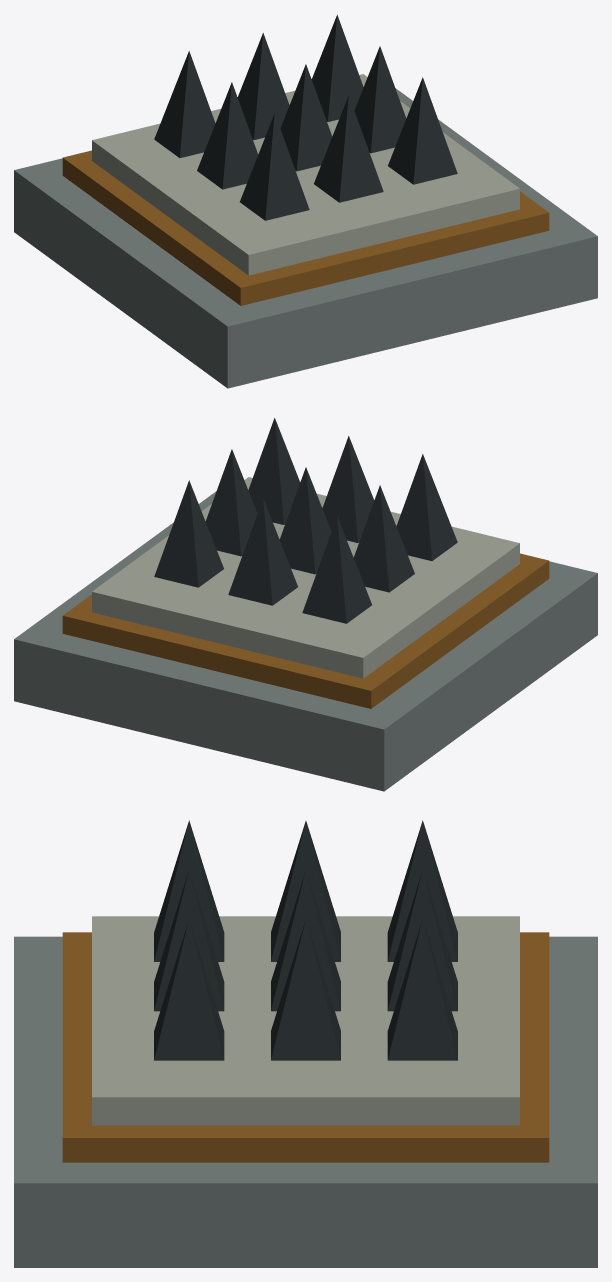
Rendered from MOV_TRAP_SPIKES_02.obj.
3 views of the same model, one above another, from view 1: azimuth 30°, elevation 25°; view 2: azimuth 150°, elevation 25°; view 3: azimuth 270°, elevation 25° (orthographic). The views are drawn at different scales.
Parts seen in each view (by area): view 1: Part_0, Part_2, Part_1, Part_11, Part_5, Part_8, Part_9, Part_10, Part_4, Part_7, Part_3, Part_6; view 2: Part_0, Part_2, Part_1, Part_9, Part_3, Part_6, Part_10, Part_11, Part_4, Part_7, Part_5, Part_8; view 3: Part_0, Part_2, Part_1, Part_3, Part_5, Part_4, Part_6, Part_8, Part_9, Part_11, Part_7, Part_10.
Part boxes in pixels (<box>): Part_0: <box>14,88,597,388</box>; Part_2: <box>92,74,519,275</box>; Part_1: <box>62,150,549,305</box>; Part_11: <box>240,113,309,220</box>; Part_5: <box>388,77,457,184</box>; Part_8: <box>314,95,383,202</box>; Part_9: <box>154,51,215,157</box>; Part_10: <box>197,82,258,189</box>; Part_4: <box>354,46,406,153</box>; Part_7: <box>280,64,332,171</box>; Part_3: <box>311,15,363,121</box>; Part_6: <box>237,33,289,139</box>; Part_0: <box>14,491,597,791</box>; Part_2: <box>92,477,519,678</box>; Part_1: <box>62,553,549,708</box>; Part_9: <box>302,516,371,623</box>; Part_3: <box>154,480,223,587</box>; Part_6: <box>228,498,297,605</box>; Part_10: <box>353,485,414,592</box>; Part_11: <box>396,454,457,560</box>; Part_4: <box>205,449,257,556</box>; Part_7: <box>279,467,331,574</box>; Part_5: <box>248,418,300,524</box>; Part_8: <box>322,436,374,542</box>; Part_0: <box>14,936,597,1267</box>; Part_2: <box>92,916,519,1125</box>; Part_1: <box>62,932,549,1162</box>; Part_3: <box>387,919,457,1060</box>; Part_5: <box>154,919,224,1060</box>; Part_4: <box>271,919,340,1060</box>; Part_6: <box>387,869,457,1011</box>; Part_8: <box>154,869,224,1011</box>; Part_9: <box>387,820,457,961</box>; Part_11: <box>154,820,224,961</box>; Part_7: <box>271,870,340,1011</box>; Part_10: <box>271,821,340,961</box>.
Size of the model in its own units: 1.5 by 0.78 by 1.5.
